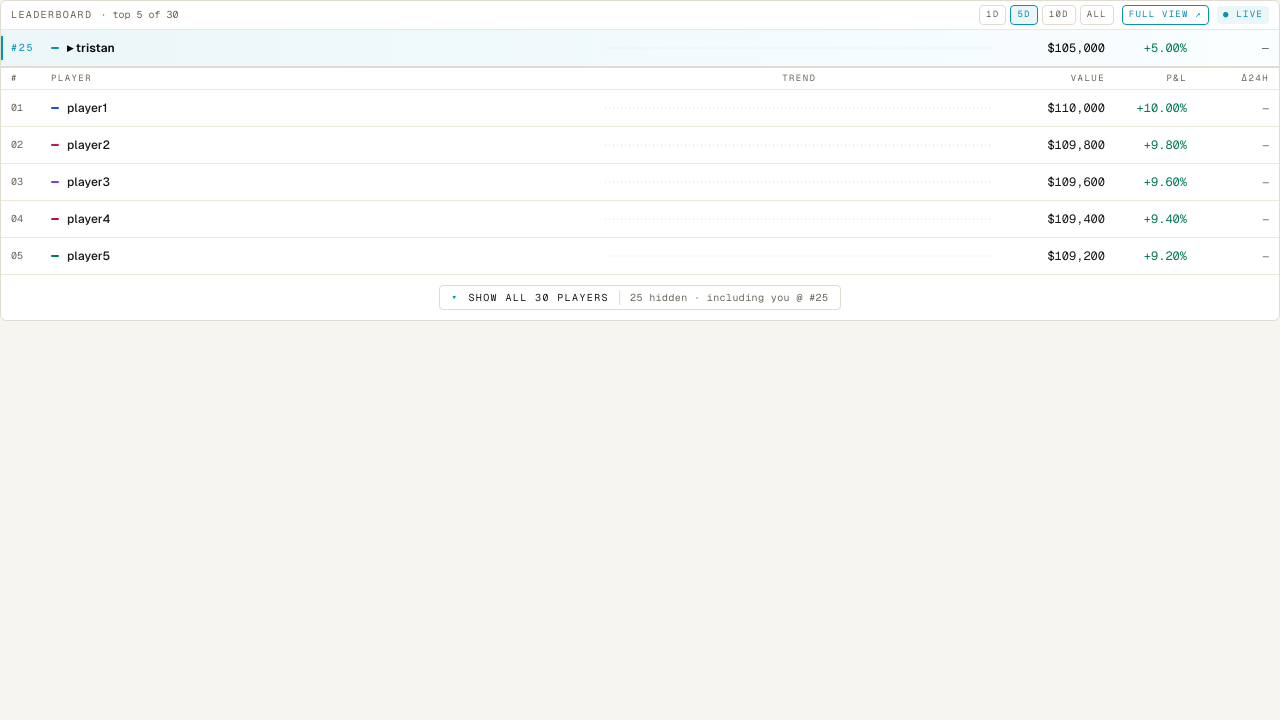
Test: LeaderboardPanel › toggles expand/collapse on click
The image size is (1280, 720).
Click the button "▾ Show all 30 players 25 hidden · including you @ #25": (640, 298) [439, 285, 841, 310]
(page scrolled)
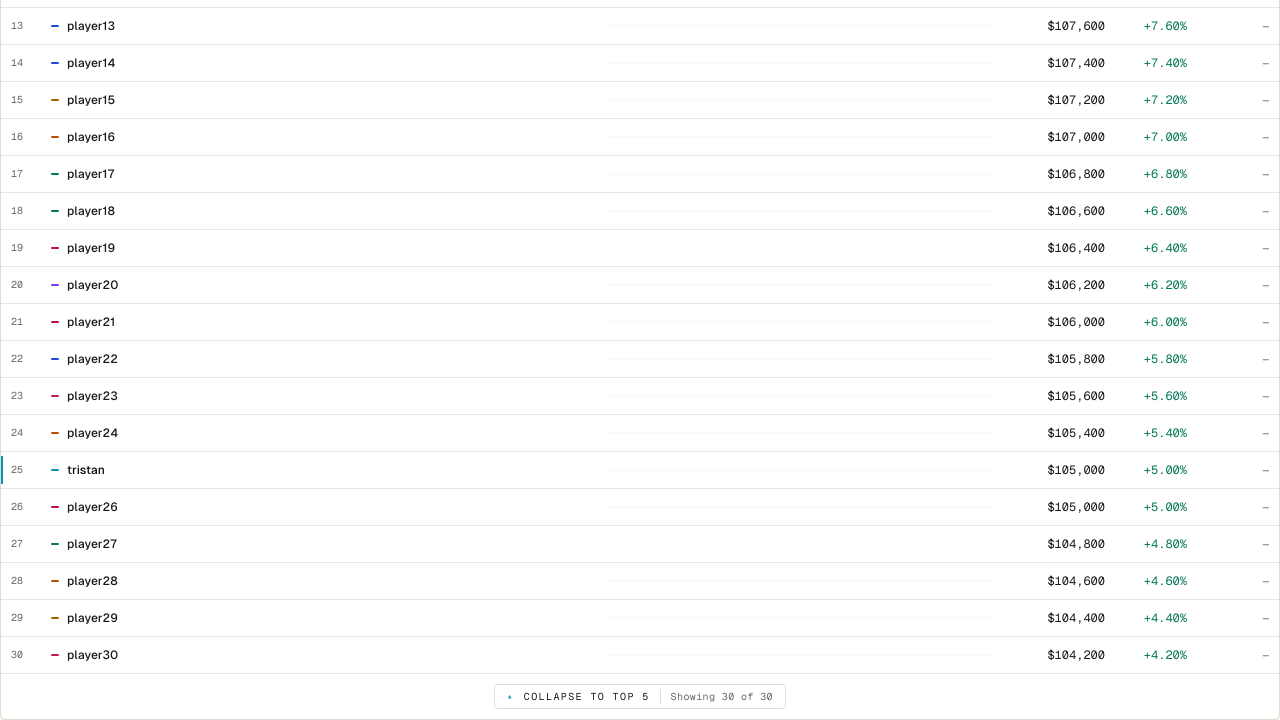
Expected: the button "▴ Collapse to top 5 Showing 30 of 30" is shown, [494, 684, 786, 709]
